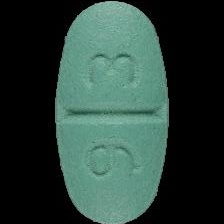68151-0183: (0, 0, 224, 224)
